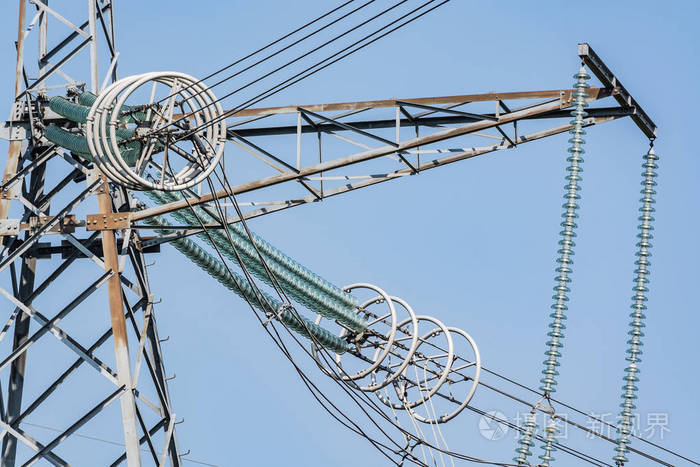insulator: (147, 182, 367, 357), (539, 73, 593, 395), (610, 151, 662, 467), (43, 88, 147, 158), (512, 418, 560, 467)
